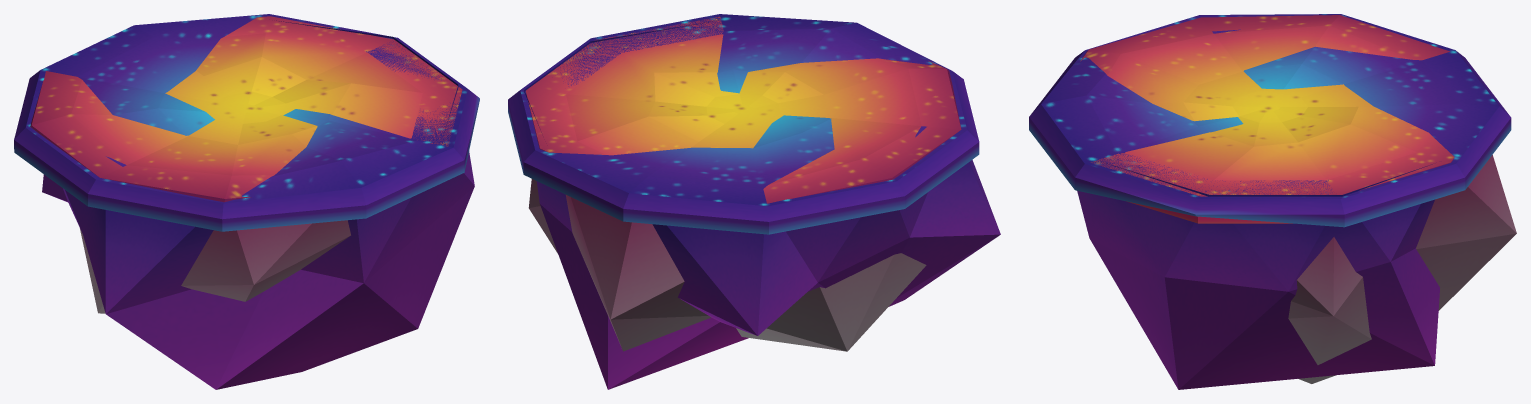
Rendered from Bioma_Islands.fbx.
The picture shows the model from 3 angles, left to right: view 1: azimuth 30°, elevation 25°; view 2: azimuth 150°, elevation 25°; view 3: azimuth 270°, elevation 25°; orthographic projection.
Parts seen in each view (by area): view 1: Icosphere.002, Icosphere.001, Icosphere.003, Icosphere; view 2: Icosphere.001, Icosphere.003, Icosphere.002, Icosphere; view 3: Icosphere.002, Icosphere.001, Icosphere.003, Icosphere.
Part boxes in pixels (box(x1,y1,x2,y2)): Icosphere.002: box(42, 20, 474, 389); Icosphere.001: box(30, 16, 462, 202); Icosphere.003: box(14, 14, 479, 231); Icosphere: box(80, 220, 350, 313); Icosphere.001: box(525, 16, 961, 203); Icosphere.003: box(508, 14, 979, 234); Icosphere.002: box(524, 21, 1000, 389); Icosphere: box(528, 179, 926, 351); Icosphere.002: box(1077, 163, 1439, 389); Icosphere.001: box(1080, 15, 1454, 223); Icosphere.003: box(1029, 14, 1511, 227); Icosphere: box(1288, 155, 1516, 383).
Size of the model in its own units: 10505 by 9919 by 6142.
4 materials, 4 textured.
